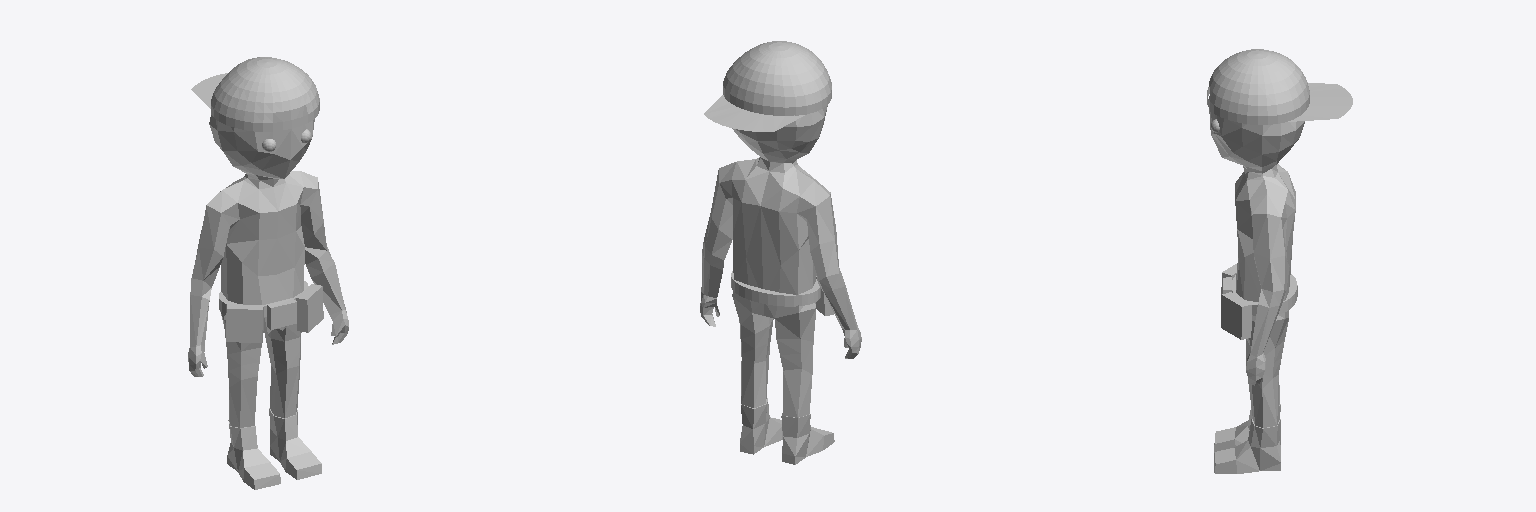
File: Main_Character_Idle_1.obj
3 renders of one model, left to right at view 1: azimuth 30°, elevation 25°; view 2: azimuth 150°, elevation 25°; view 3: azimuth 270°, elevation 25°, orthographic.
Parts seen in each view (by area): view 1: Main_Character_Test.003_Main_Character_Test.004; view 2: Main_Character_Test.003_Main_Character_Test.004; view 3: Main_Character_Test.003_Main_Character_Test.004.
Boxes of the visible parts, <box> form: Main_Character_Test.003_Main_Character_Test.004: <box>188,57,348,489</box>; Main_Character_Test.003_Main_Character_Test.004: <box>700,41,861,464</box>; Main_Character_Test.003_Main_Character_Test.004: <box>1207,49,1352,473</box>.
Bounding box in the file's own units: 1.63 × 3.98 × 1.31.